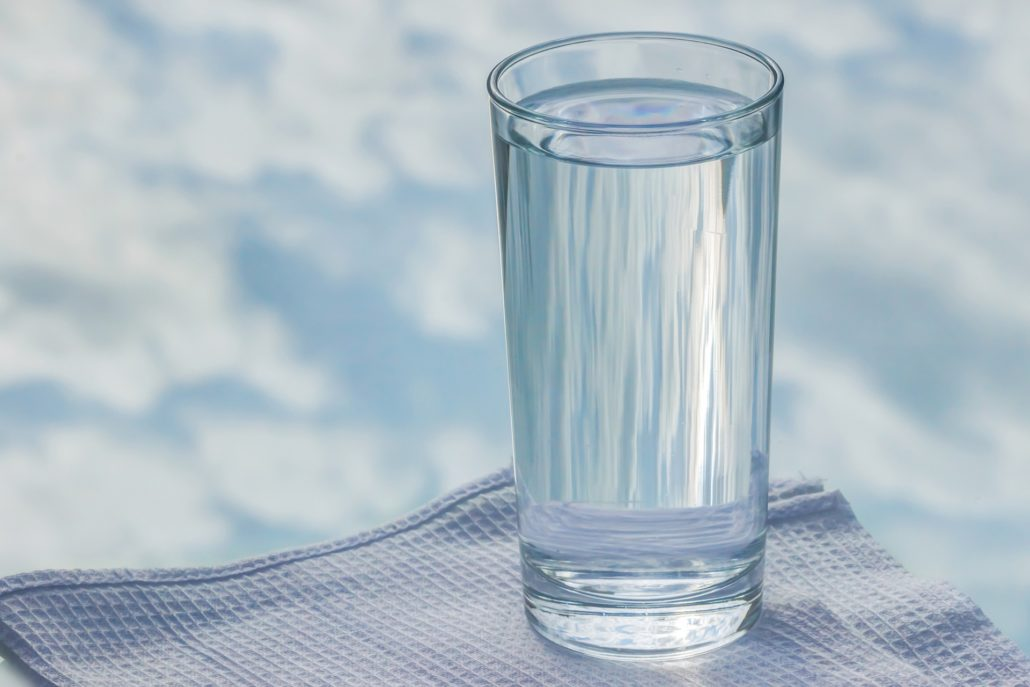glass of water: (504, 61, 754, 651)
